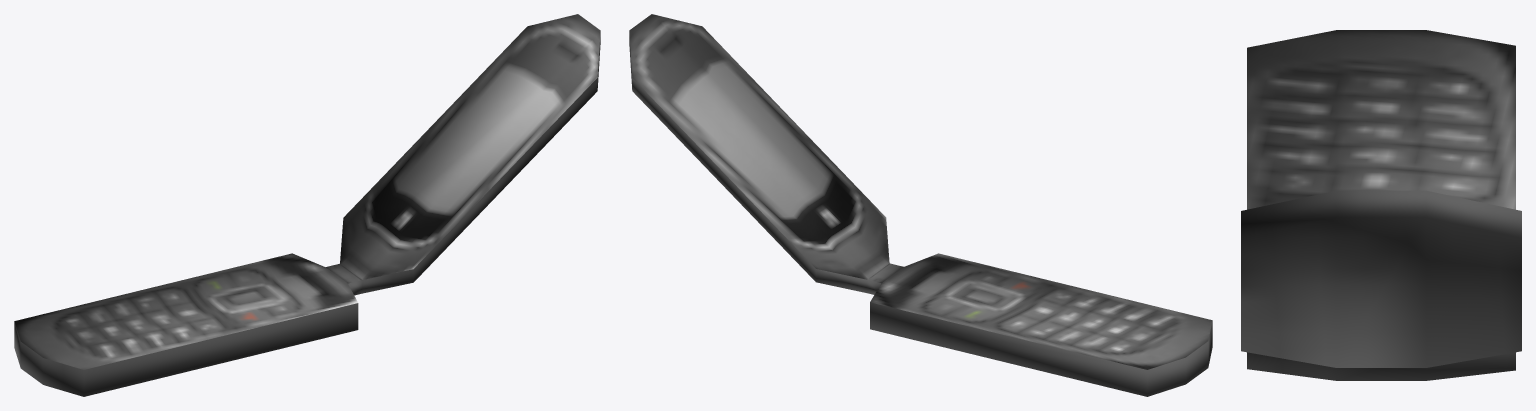
Rendered from burner_phone.FBX.
3 renders of one model, left to right at view 1: azimuth 30°, elevation 25°; view 2: azimuth 150°, elevation 25°; view 3: azimuth 270°, elevation 25°, orthographic. The views are drawn at different scales.
Visible parts, largest first — view 1: burner_phone; view 2: burner_phone; view 3: burner_phone.
Part boxes in pixels (x1,y1,x2,y2): burner_phone: (14,14,600,396); burner_phone: (629,14,1212,396); burner_phone: (1241,30,1521,380).
Size of the model in its own units: 40.81 by 15.29 by 8.91.
